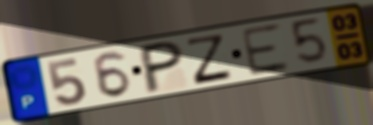5: (286, 15, 331, 67), (45, 55, 89, 108)
6: (92, 49, 134, 100)
E: (238, 21, 292, 78)
P: (140, 38, 185, 96)
Z: (185, 33, 235, 87)
